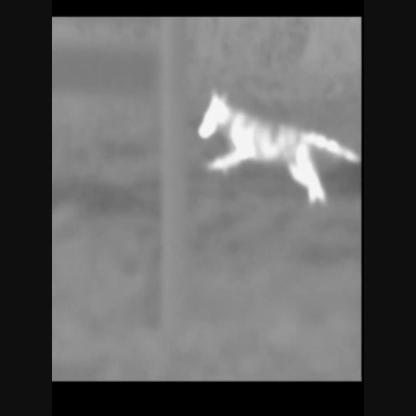rehkitze: (192, 93, 361, 215)
